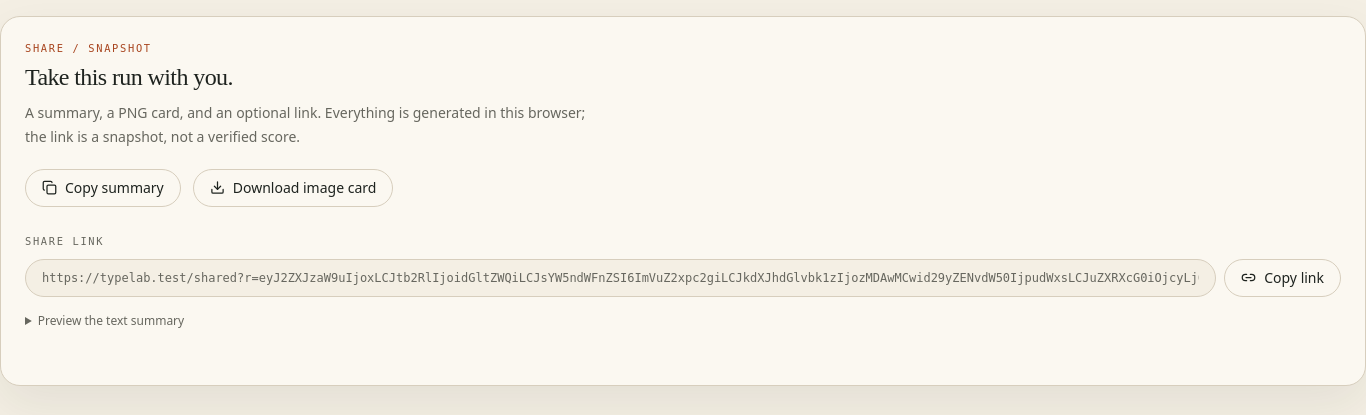
share panel › copies the summary with its metrics and link
Click the button "Copy summary": {"x": 103, "y": 188} [25, 169, 181, 207]
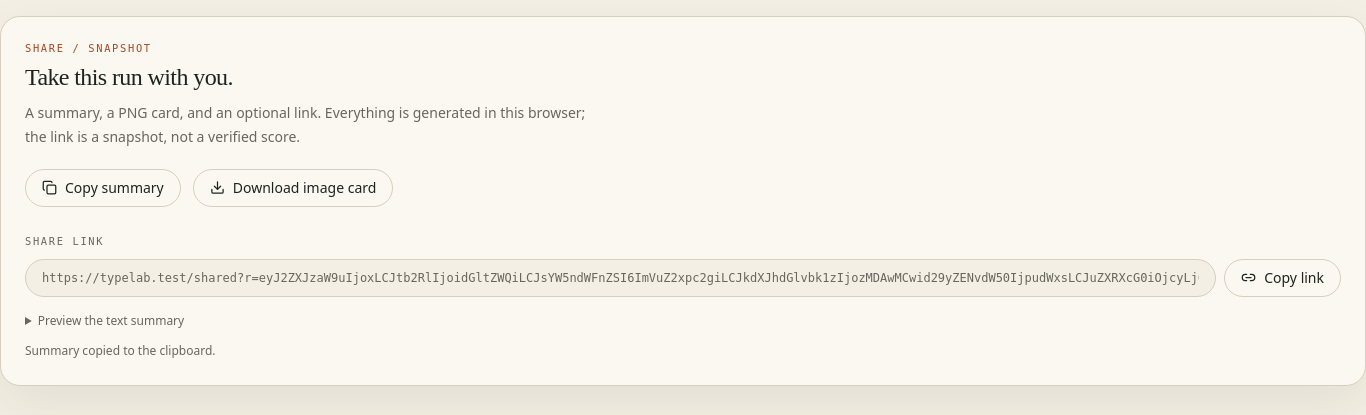
Now the text "Summary copied to the clipboard." is shown, box [25, 342, 216, 359]
